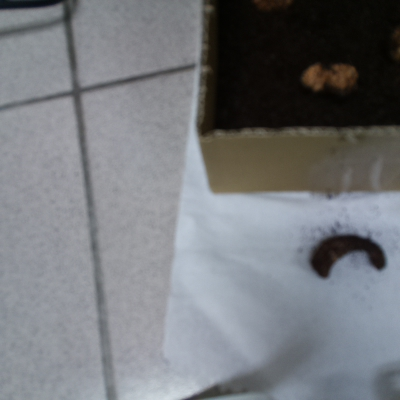eggs: (294, 58, 363, 99)
